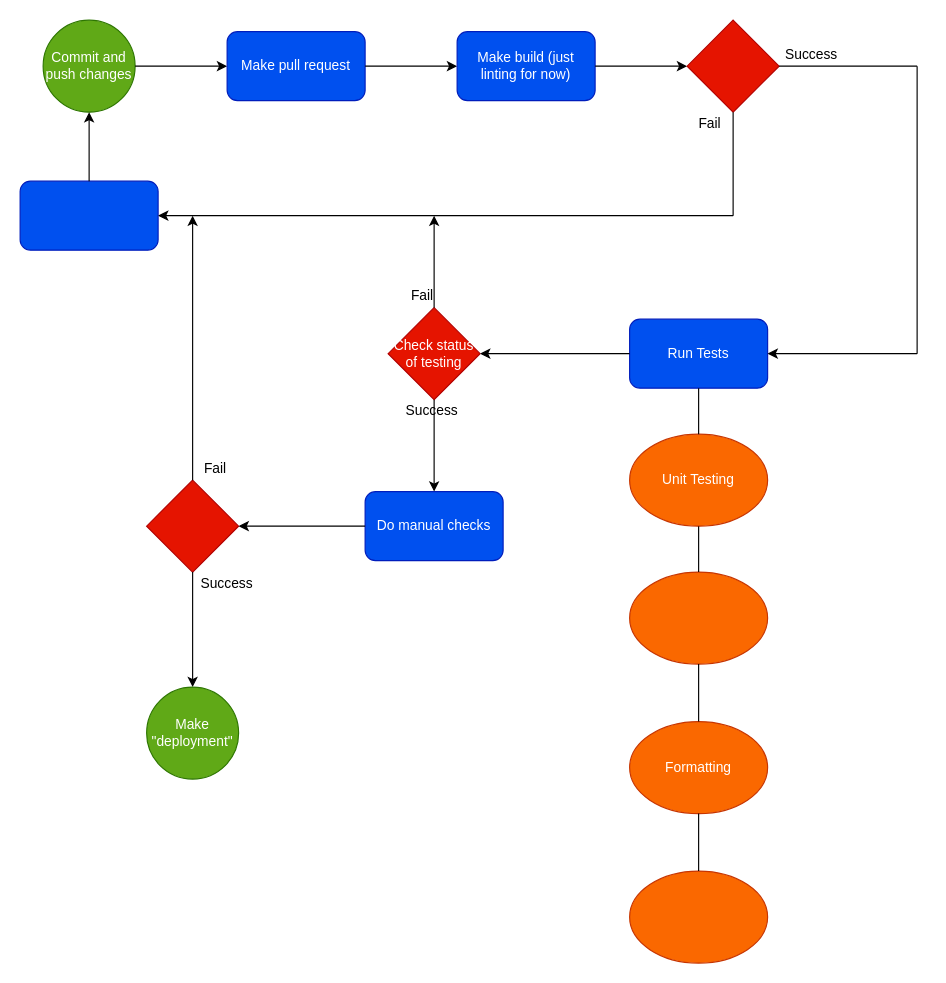
The diagram is 946 pixels wide and 983 high, and some of its shapes have lost their labels. Here are the shapes that lost their labels. From the top down, the centre of each, then its label:
At point 732,65: "Check build status".
At point 88,215: "Reevaluate code and make necessary changes".
At point 192,525: "Check status of manual checks".
At point 698,617: "Code Quality Testing".
At point 698,916: "Documentation".
